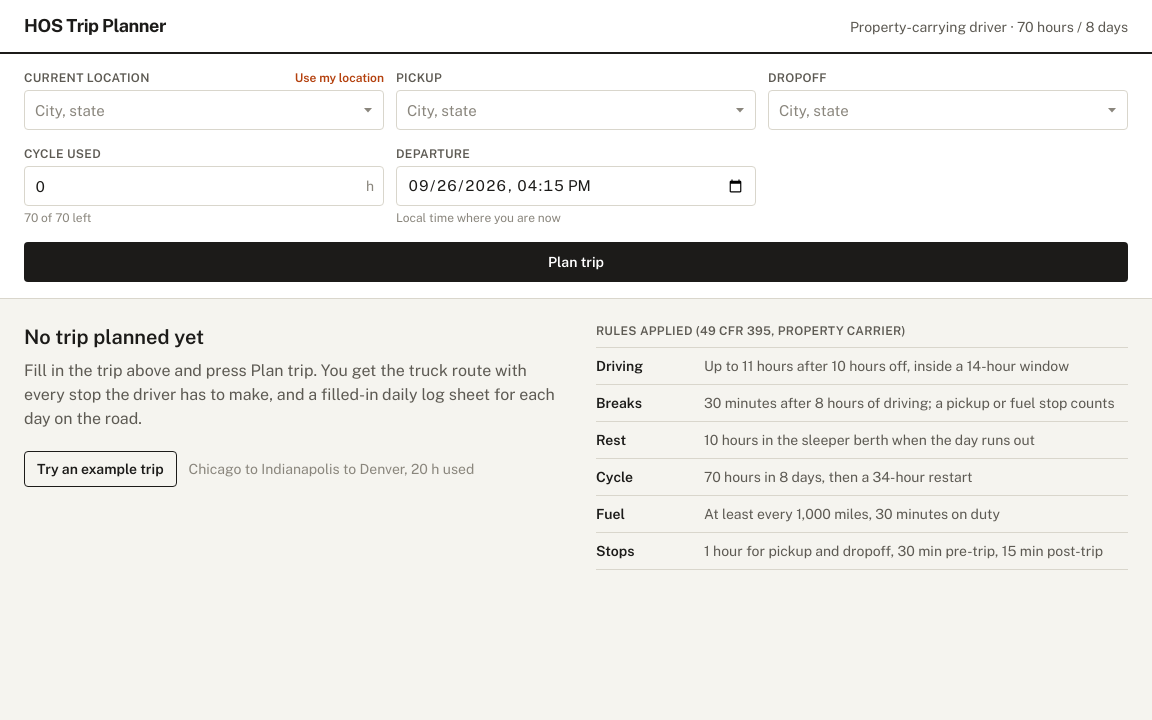
Scenario: rejects a cycle above 70 hours
Replace the text in the number field named "Cycle hours already used" with "71" at (204, 186), box 24,166 -> 384,206
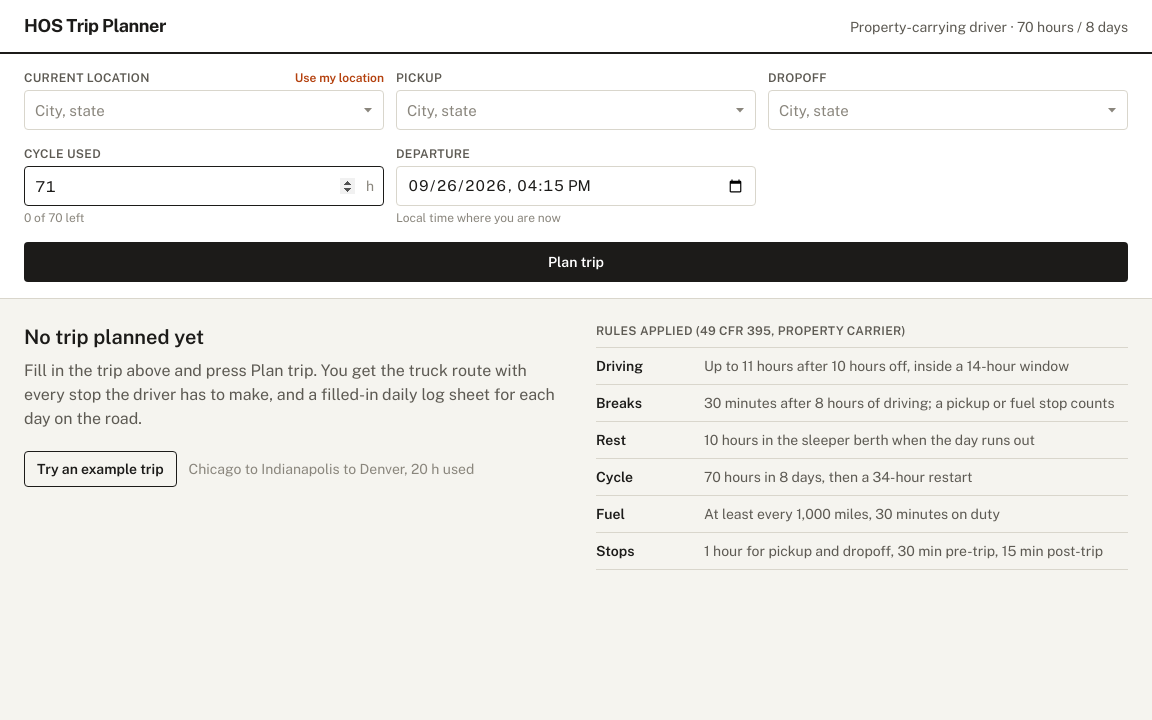
Click the button "Plan trip" at (576, 262), box 24,242 -> 1128,282
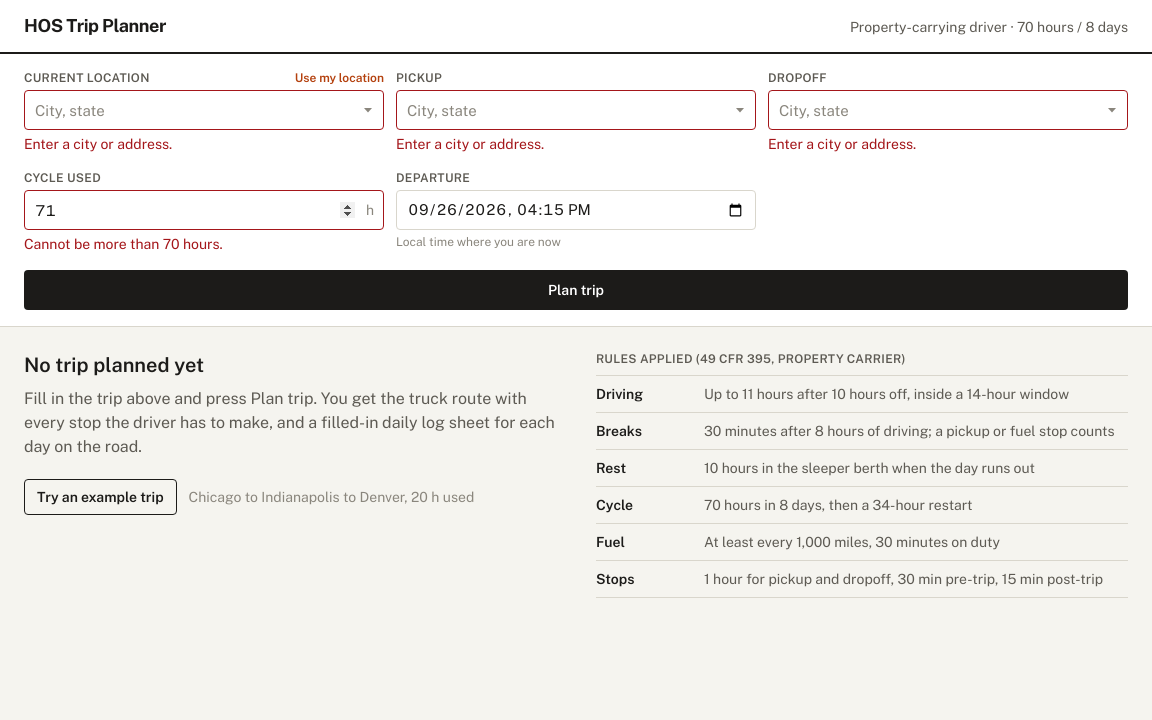
Expected: the text "Cannot be more than 70 hours." is shown, 24,236 -> 223,252
